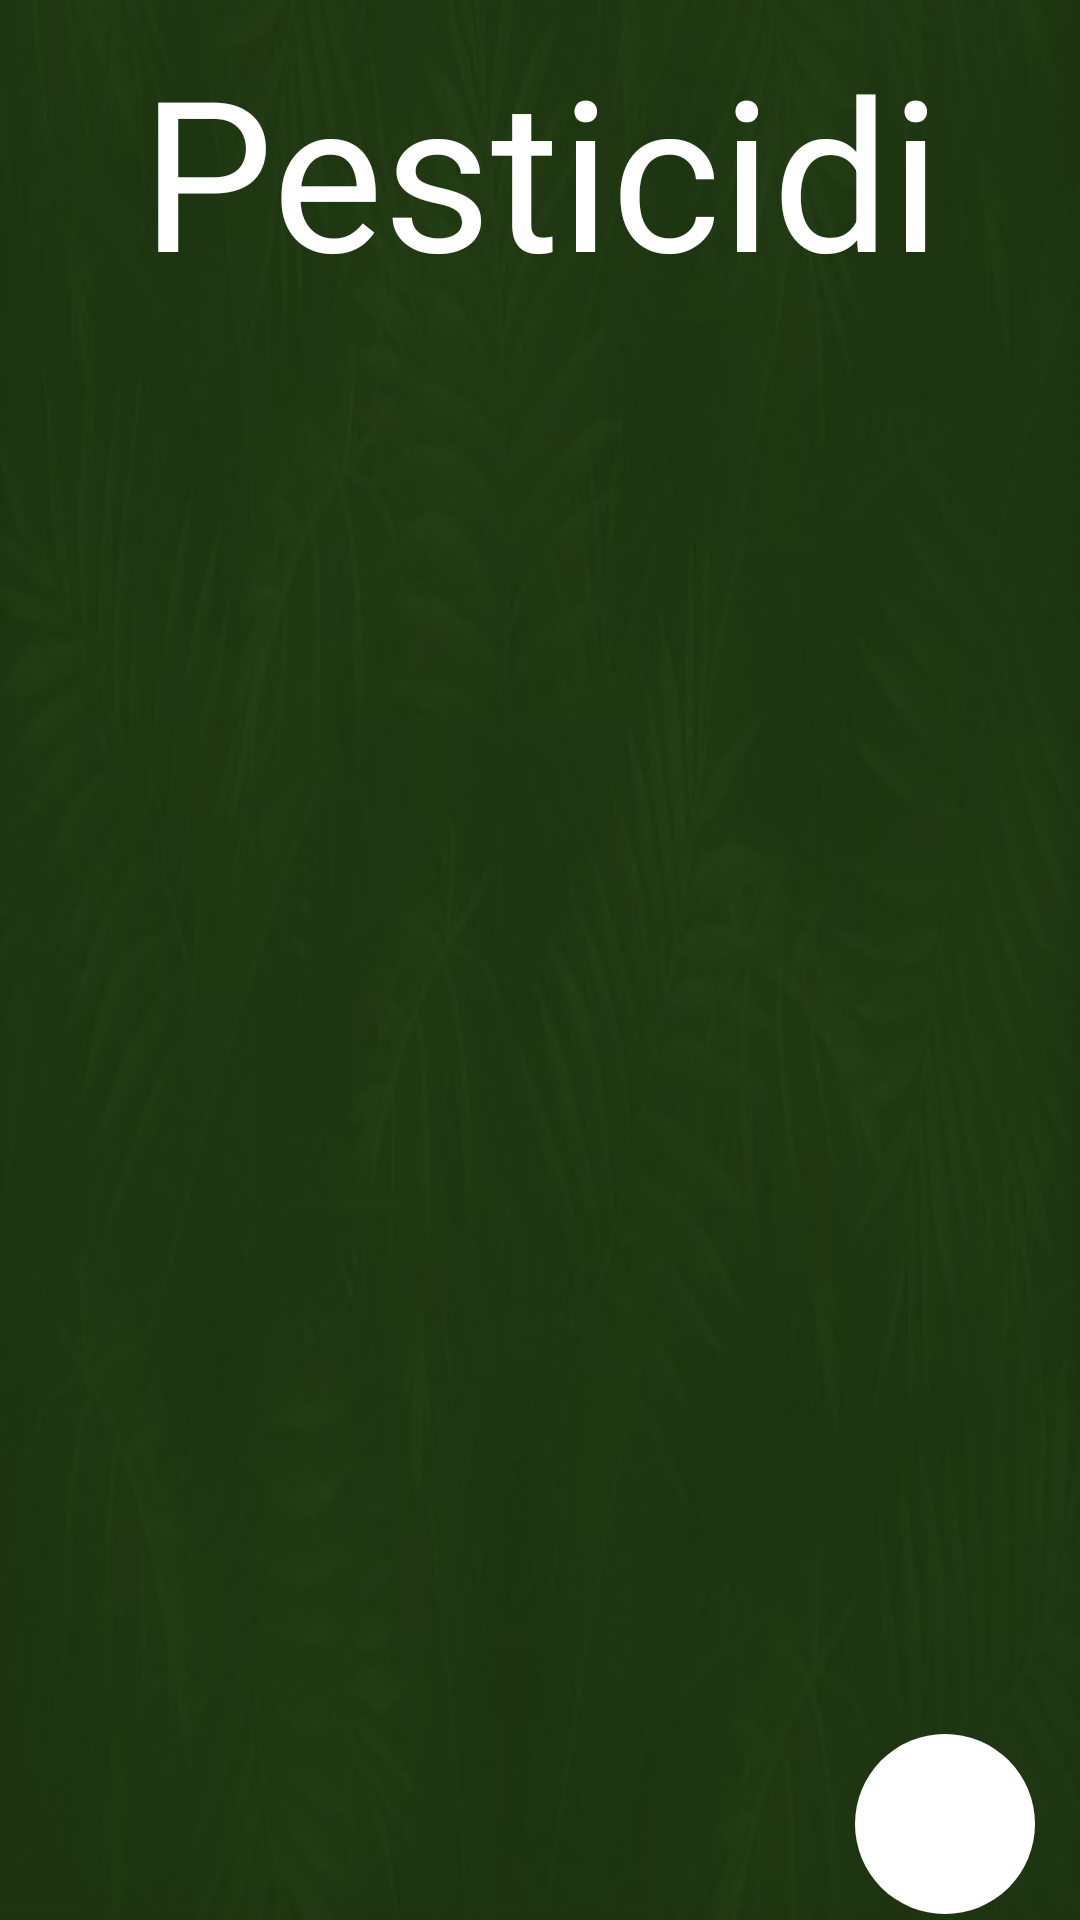

Where to tap for icons on this 1080 × 1920 app screen, as (x,y):
cerchio: (945,1824)
